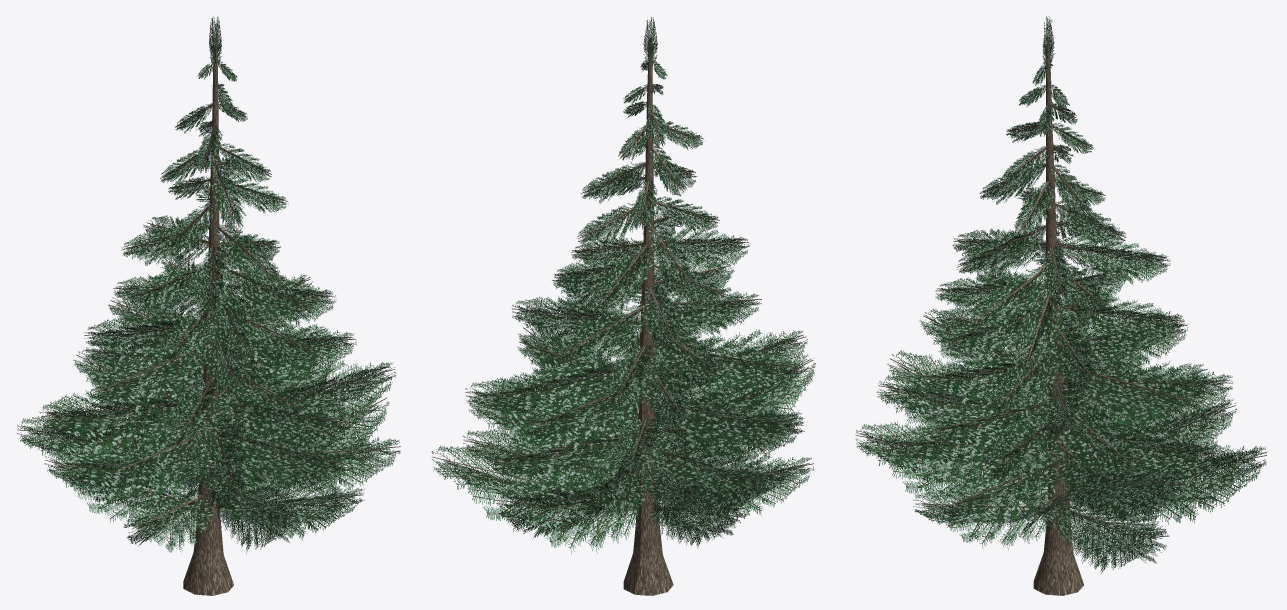
File: pinheiro_nv_a.glb
3 views of the same model, side by side, from view 1: azimuth 30°, elevation 25°; view 2: azimuth 150°, elevation 25°; view 3: azimuth 270°, elevation 25° (orthographic).
Visible parts, largest first — view 1: pinheiro_nv_a; view 2: pinheiro_nv_a; view 3: pinheiro_nv_a.
Part boxes in pixels (bbox=[...]): pinheiro_nv_a: bbox=[17, 16, 400, 595]; pinheiro_nv_a: bbox=[431, 17, 815, 595]; pinheiro_nv_a: bbox=[855, 16, 1267, 595].
Size of the model in its own units: 6.24 by 10 by 6.68.
2 materials, 2 textured.
